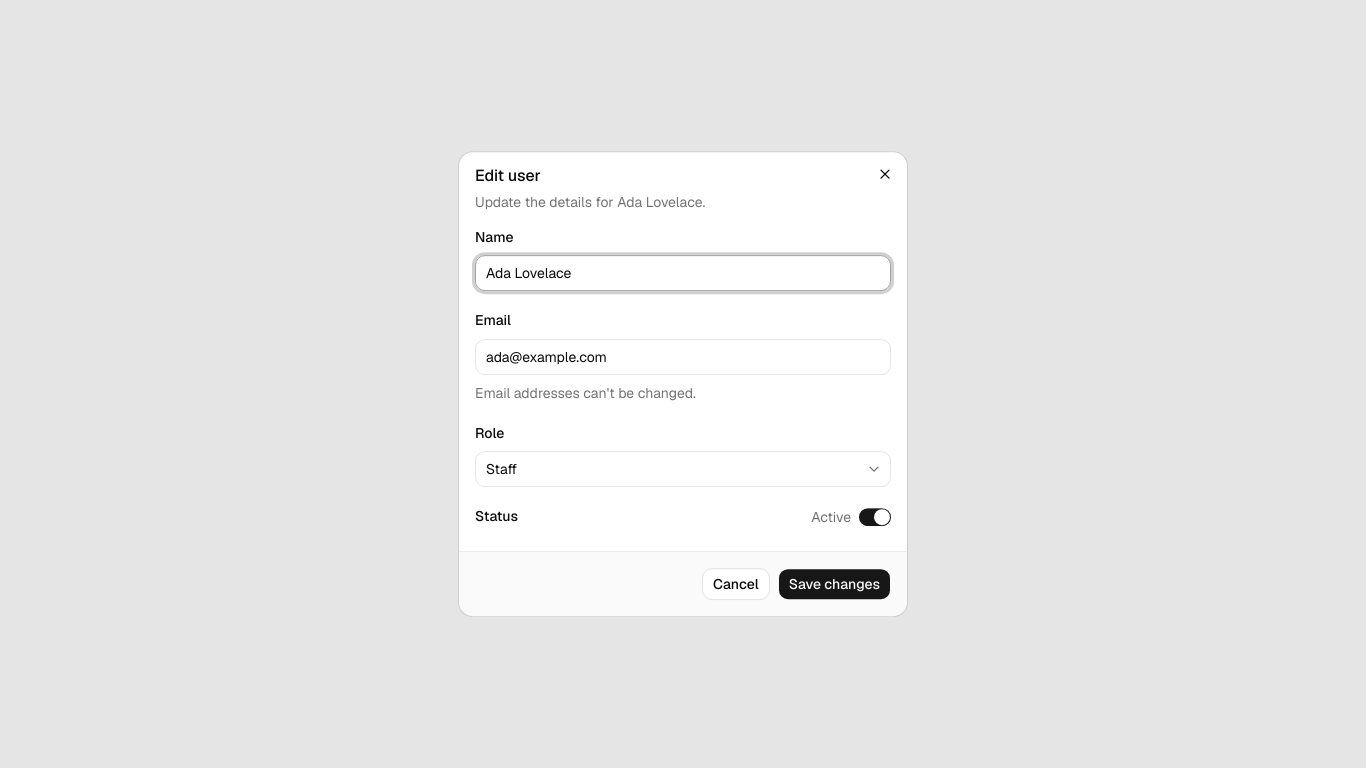
Test: EditUserDialog › shows the error and stays open when saving fails
The image size is (1366, 768).
Check: the dialog is shown, box [459,152,907,616]
Click the button "Save changes". click: (834, 584)
box: [778,568,891,600]
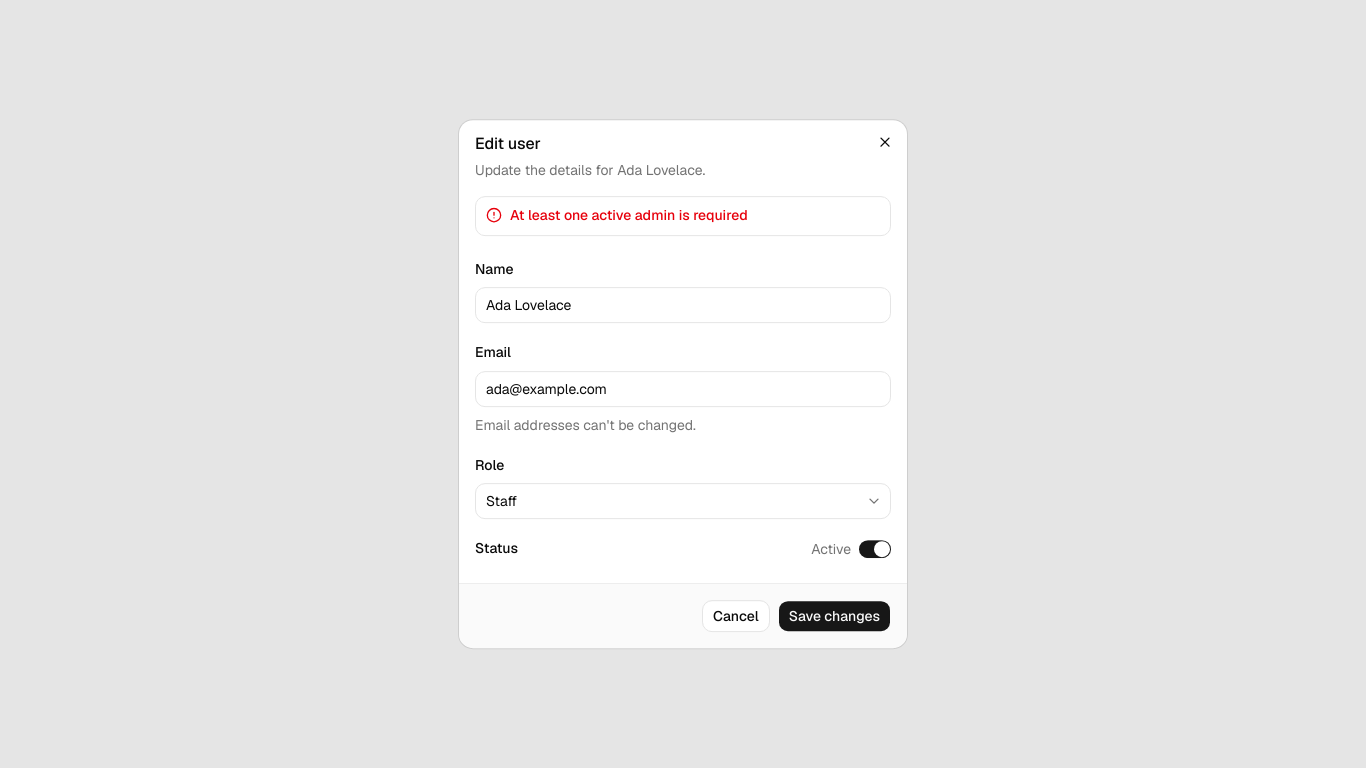
Check: the button "Save changes" is enabled, box [778,600,891,632]
Check: the message reads "At least one active admin is required", box [510,206,748,224]
